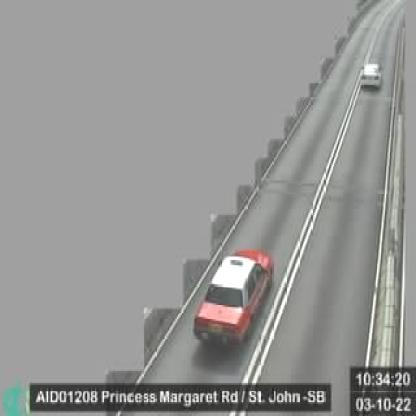Car: (195, 248, 272, 343), (358, 61, 382, 88)
